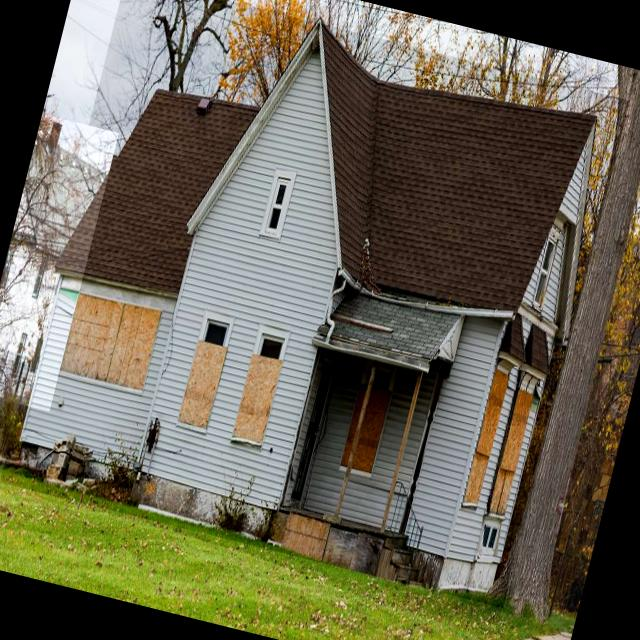House: (0, 0, 629, 608), (0, 114, 118, 411)
